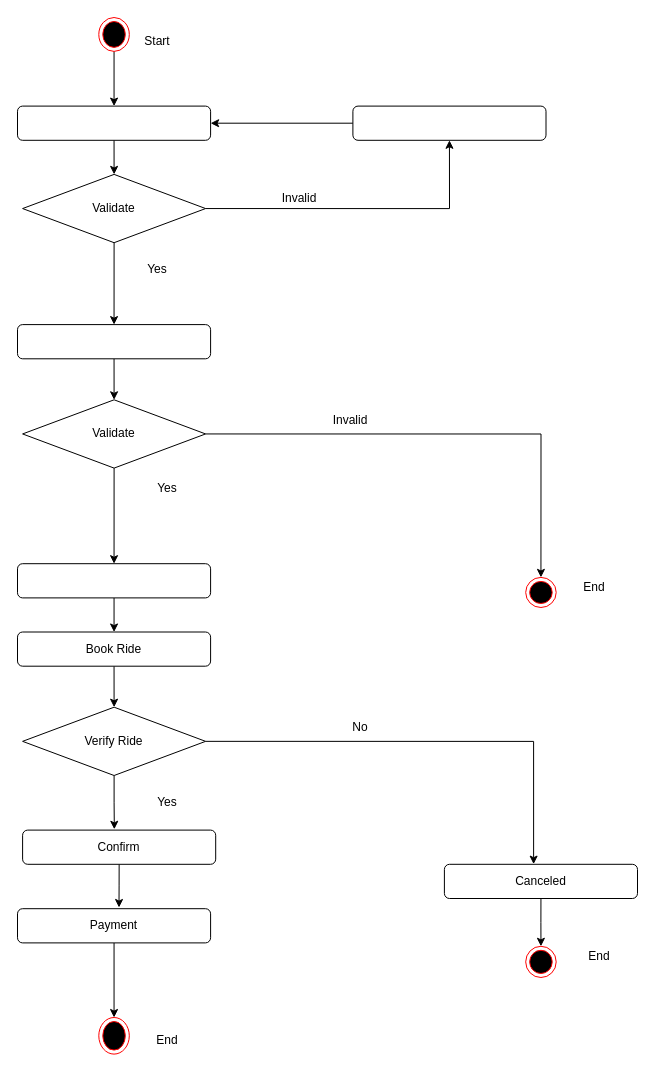
Image size: 655x1072. Some labels were removed from this diagram. Each missing label, with the centre of its shape:
"Login" goes at (113,341).
"Re Enter Details" goes at (449,122).
"Registration" goes at (113,122).
"Search Ride" goes at (113,580).
